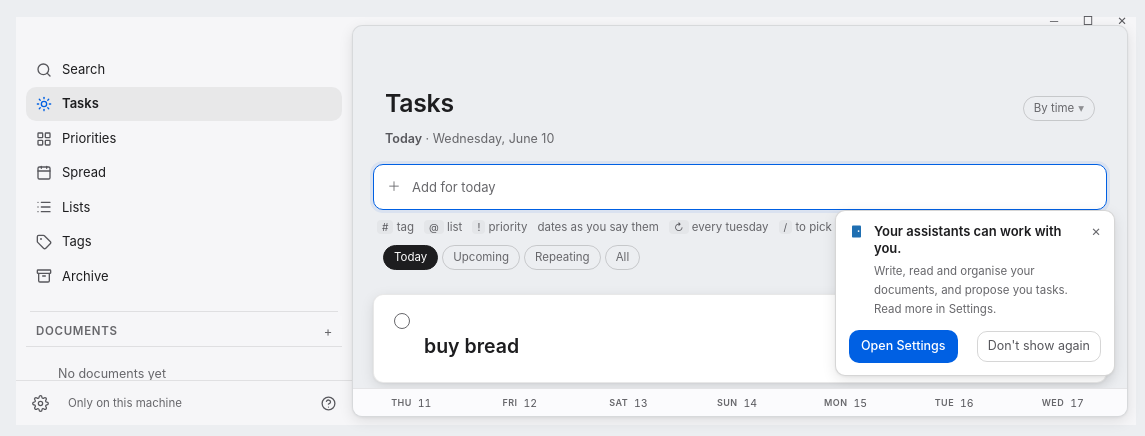
it: the card for an assistant turned away at the door › does not bring back a card put off for now when the window comes back
Expected: the heading "buy bread" is shown, [424,334,519,358]
Expected: the message "Your assistants" is shown, [835,210,1115,376]
What coordinates should you click on to do the following:
click the button named "not now"
I would click on:
 (1096, 232)
Its box is [1087,223,1105,242].
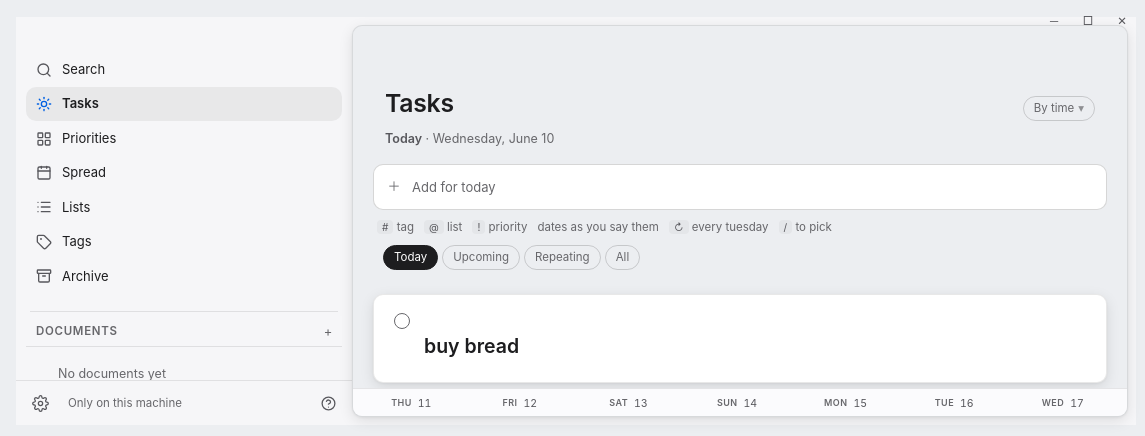
Expected: the text "Your assistants" is gone
